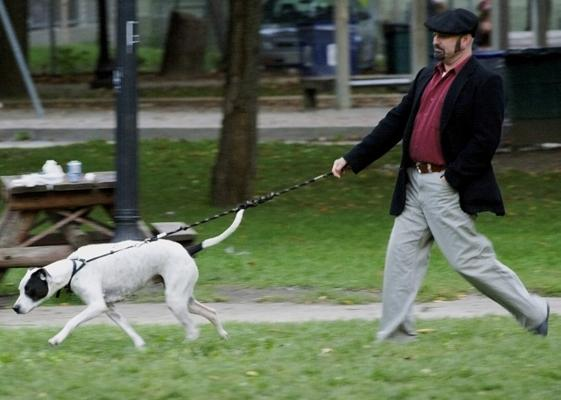person: (332, 11, 548, 345)
